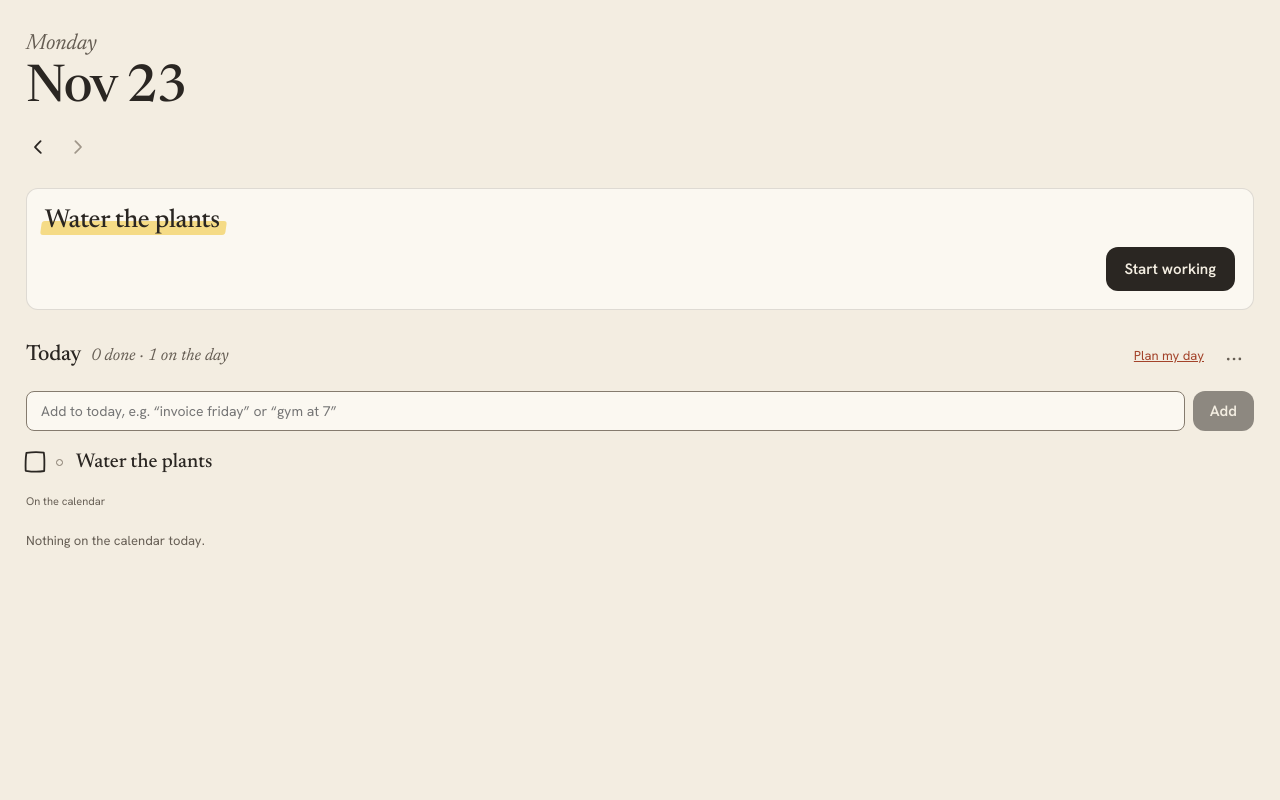
Scenario: <TodayView> under Field notes › nudges with Plan my day on the Today line, with no band, when the day has no capacity
The width and height of the screenshot is (1280, 800).
What coordinates should you click on to do the following:
click the button "Plan my day"
I would click on:
 (1169, 356)
Its box is [1134,346,1204,366].
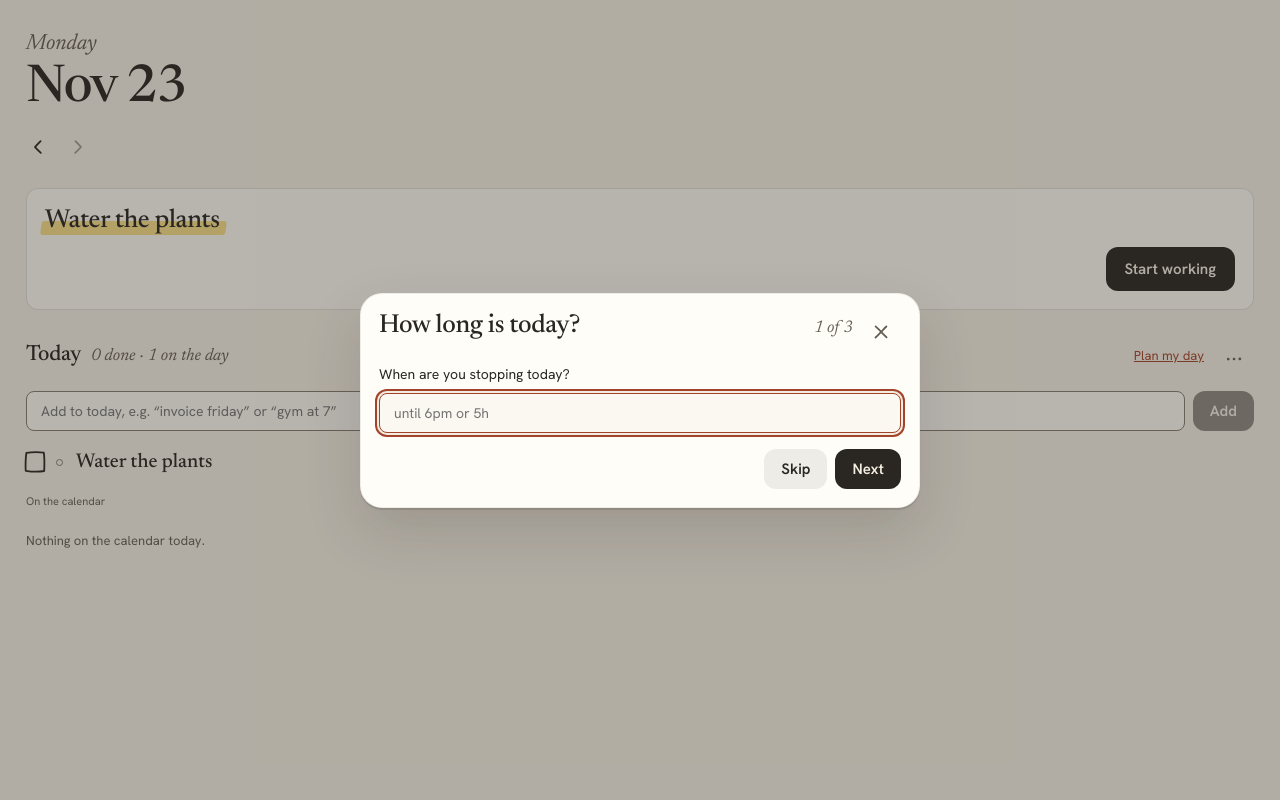
Expected: the dialog named "Plan your day" is shown, [360,292,920,508]
